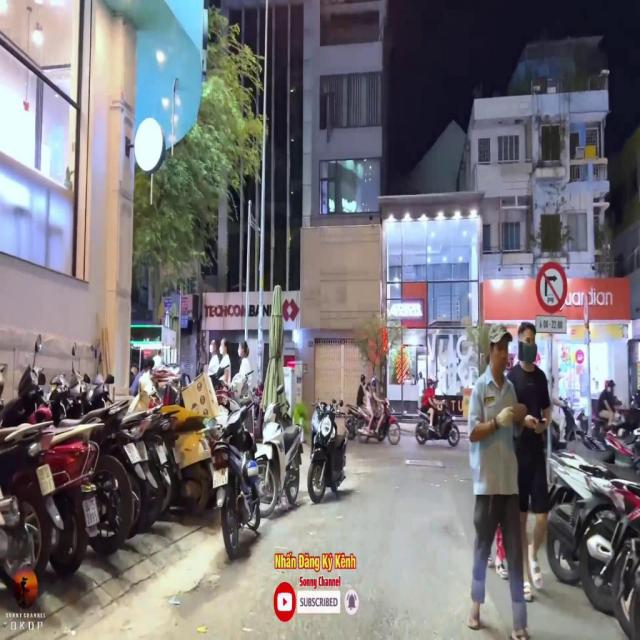cam_o_to_re_phai: (536, 261, 568, 315)
khac: (536, 316, 566, 332)
